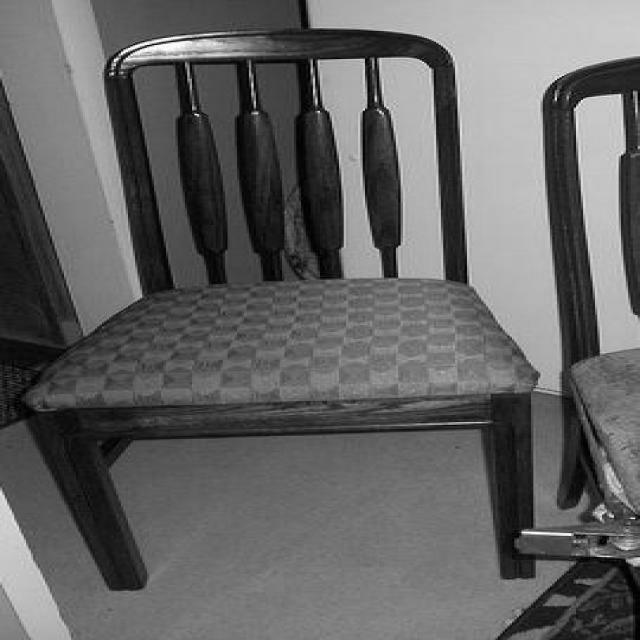chair: (17, 28, 540, 592), (545, 56, 638, 554)
